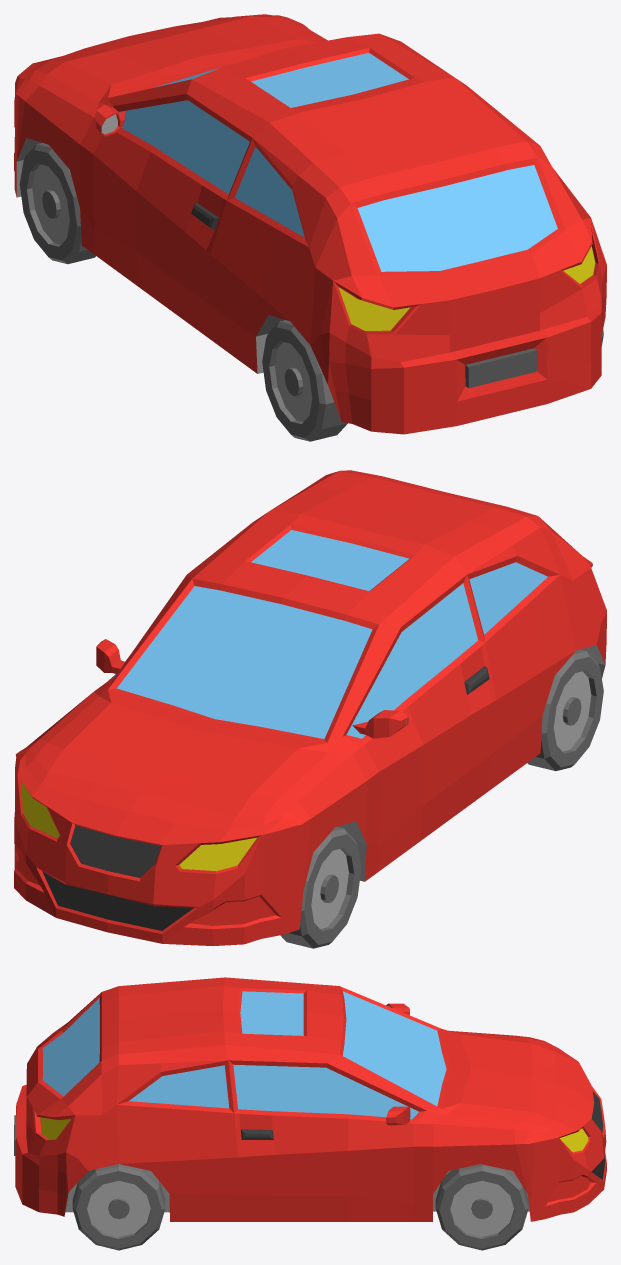
The model's file is Car.fbx.
The picture shows the model from 3 angles, top to bottom: view 1: azimuth 30°, elevation 25°; view 2: azimuth 150°, elevation 25°; view 3: azimuth 270°, elevation 25°; orthographic projection. The views are drawn at different scales.
Visible parts, largest first — view 1: Car, TireLeftBack.001, TireLeftFront.001; view 2: Car, TireLeftBack.001, TireLeftFront.001; view 3: Car, TireRightBack.001, TireRightFront.
Part boxes in pixels (left/top/right/bottom): Car: left=14, top=14, right=606, bottom=434; TireLeftBack.001: left=262, top=320, right=347, bottom=441; TireLeftFront.001: left=19, top=143, right=95, bottom=264; Car: left=14, top=470, right=606, bottom=945; TireLeftBack.001: left=527, top=649, right=603, bottom=771; TireLeftFront.001: left=280, top=827, right=361, bottom=948; Car: left=14, top=977, right=606, bottom=1221; TireRightBack.001: left=72, top=1164, right=165, bottom=1250; TireRightFront: left=435, top=1164, right=528, bottom=1250.
Size of the model in its own units: 30.46 by 24.2 by 67.91.
